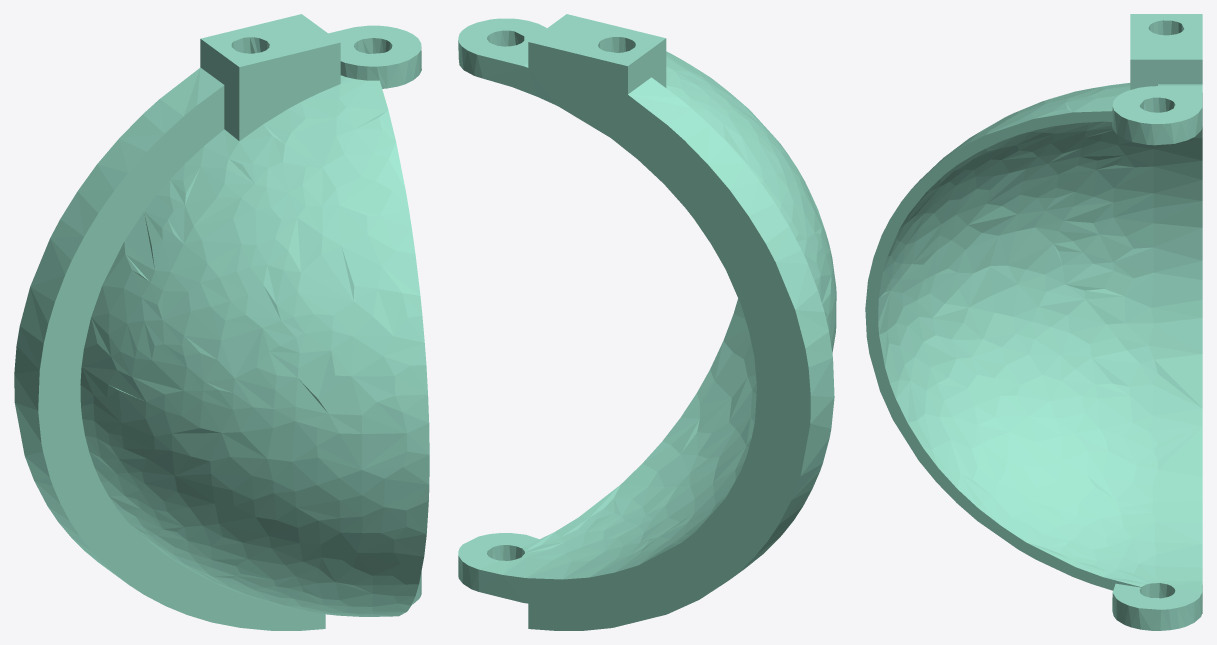
The model's file is i02_head_left_top_eyelid_visual.obj.full.glb.
3 renders of one model, left to right at view 1: azimuth 30°, elevation 25°; view 2: azimuth 150°, elevation 25°; view 3: azimuth 270°, elevation 25°, orthographic. The views are drawn at different scales.
Bounding box in the file's own units: 0.2107 × 0.3191 × 0.1761.
